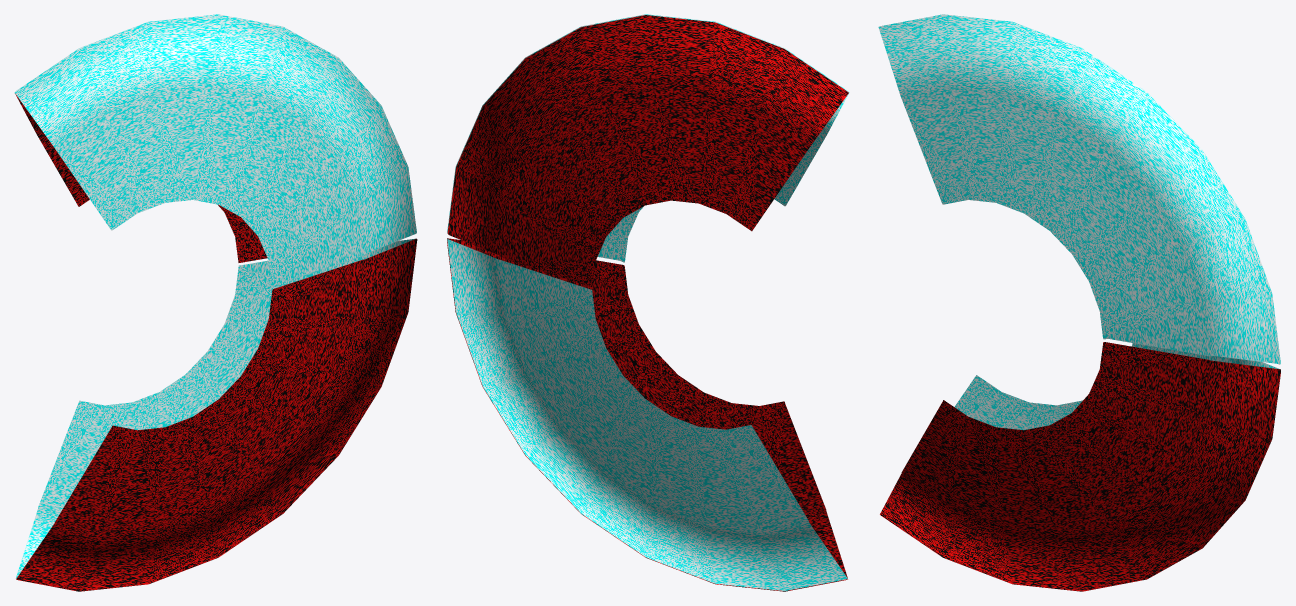
The model's file is SM_HalfSphere_03_LGS.fbx.
3 views of the same model, side by side, from view 1: azimuth 30°, elevation 25°; view 2: azimuth 150°, elevation 25°; view 3: azimuth 330°, elevation 25° (orthographic).
Visible parts, largest first — view 1: SM_HalfSphere_03_LGS; view 2: SM_HalfSphere_03_LGS; view 3: SM_HalfSphere_03_LGS.
Boxes of the visible parts, x1=… form: SM_HalfSphere_03_LGS: x1=14, y1=14, x2=417, y2=591; SM_HalfSphere_03_LGS: x1=447, y1=14, x2=849, y2=591; SM_HalfSphere_03_LGS: x1=878, y1=14, x2=1280, y2=591.
Size of the model in its own units: 16.5 by 22 by 2.35.
